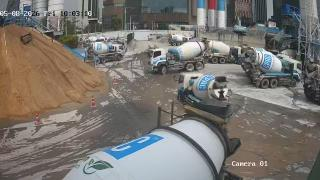cement_mixer_truck: (62, 99, 242, 179), (242, 48, 301, 89), (147, 41, 205, 74), (177, 72, 231, 104), (202, 40, 244, 64), (86, 42, 124, 65), (242, 44, 292, 59), (304, 58, 320, 104), (267, 49, 296, 59), (168, 34, 192, 45), (98, 36, 105, 43)
